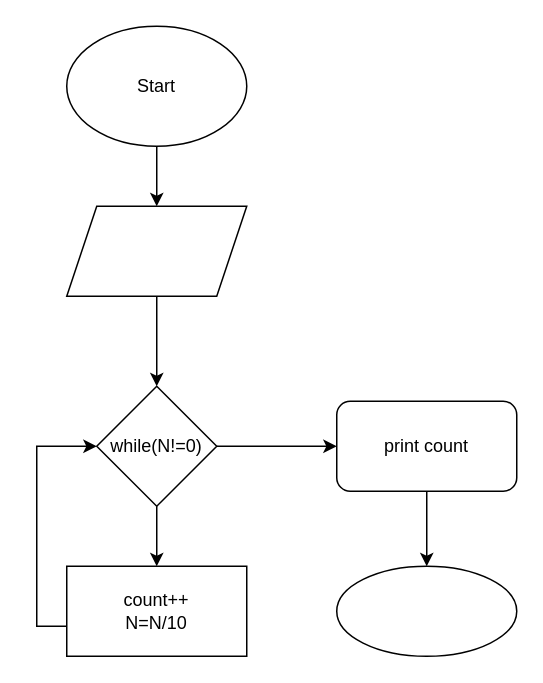
The diagram is 543 pixels wide and 683 high, and some of its shapes have lost their labels. Each missing label, with the centre of its shape:
"N=12345 count=0" goes at point (156, 250).
"Stop" goes at point (426, 610).
